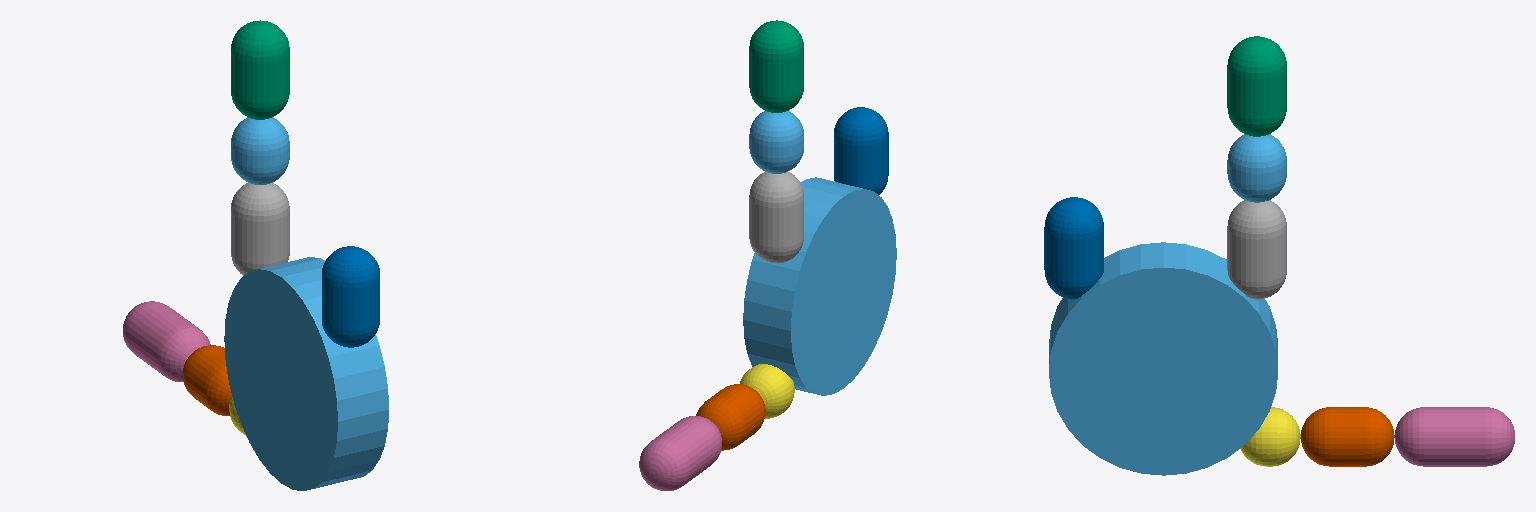
The robot description file, URDF, robot "DexterousHand":
<?xml version="1.0"?>
<robot name="DexterousHand">


    <link name="world"/>
    <joint name="world_to_palm" type="fixed">
        <parent link="world"/>
        <child link="palm"/>
        <origin xyz="0 0 0" rpy="0 0 0"/>
    </joint>
    <link name="palm">
        <inertial>
            <origin xyz="0 0 0.057" rpy="0 0 0"/>
            <mass value="0.30212892864"/>
            <inertia ixx="0.00049080844457568" ixy="0.0" ixz="0.0" iyy="0.00026746366246427523" iyz="0.0" izz="0.00026746366246427523"/>
        </inertial>
        <visual>
            <origin xyz="0 0 0.057" rpy="1.5708 0 1.5708"/>
            <geometry>
                <cylinder radius="0.057" length="0.0296"/>
            </geometry>
            <material name="default"/>
        </visual>
        <collision>
            <origin xyz="0 0 0.057" rpy="1.5708 0 1.5708"/>
            <geometry>
                <cylinder radius="0.057" length="0.0296"/>
            </geometry>
        </collision>
    </link>

    
    <joint name="thumb_joint1" type="revolute">
        <parent link="palm"/>
        <child link="thumb_base"/>
        <origin xyz="0.0029 0.0368 0.0157" rpy="-1.5708 -1.5708 0.0"/>
        <axis xyz="-1 0 0"/>
        <limit lower="-0.349" upper="2.094" effort="1.0" velocity="1.0"/>
    </joint>

    <link name="thumb_base"></link>

    <joint name="thumb_joint2" type="revolute">
        <parent link="thumb_base"/>
        <child link="thumb_proximal"/>
        <origin xyz="0.0 0.0 0.0" rpy="0.0 0.0 0.0"/>
        <axis xyz="0 0 1"/>
        <limit lower="-0.47" upper="2.443" effort="1.0" velocity="1.0"/>
    </joint>

    <link name="thumb_proximal">
        <inertial>
            <origin xyz="0 0 0.01565" rpy="0 0 0"/>
            <mass value="0.021538658803200002"/>
            <inertia ixx="2.9378910096388167e-06" ixy="0.0" ixz="0.0" 
            iyy="2.9378910096388167e-06" iyz="0.0" izz="2.358913912126464e-06"/>
        </inertial>
        <visual>
            <origin xyz="0 0 0.01565" rpy="0 0 0"/>
            <geometry>
                <cylinder radius="0.0148" length="0.0017000000000000001"/>
            </geometry>
            <material name="default"/>
        </visual>
        <visual>
            <origin xyz="0 0 0.0148" rpy="0 0 0"/>
            <geometry>
                <sphere radius="0.0148"/>
            </geometry>
            <material name="default"/>
        </visual>
        <visual>
            <origin xyz="0 0 0.0165" rpy="0 0 0"/>
            <geometry>
                <sphere radius="0.0148"/>
            </geometry>
            <material name="default"/>
        </visual>
        <collision>
            <origin xyz="0 0 0.01565" rpy="0 0 0"/>
            <geometry>
                <cylinder radius="0.0148" length="0.0017000000000000001"/>
            </geometry>
        </collision>
        <collision>
            <origin xyz="0 0 0.0148" rpy="0 0 0"/>
            <geometry>
                <sphere radius="0.0148"/>
            </geometry>
        </collision>
        <collision>
            <origin xyz="0 0 0.0165" rpy="0 0 0"/>
            <geometry>
                <sphere radius="0.0148"/>
            </geometry>
        </collision>
    </link>

    <joint name="thumb_joint3" type="revolute">
        <parent link="thumb_proximal"/>
        <child link="thumb_knuckle"/>
        <origin xyz="0.0 0.0 0.0313" rpy="0.0 0.0 0.0"/>
        <axis xyz="1 0 0"/>
        <limit lower="0.0" upper="0.0" effort="1.0" velocity="1.0"/>
    </joint>

    <link name="thumb_knuckle"></link>

    <joint name="thumb_joint4" type="revolute">
        <parent link="thumb_knuckle"/>
        <child link="thumb_middle"/>
        <origin xyz="0 0 0" rpy="0 0 0"/> 
        <axis xyz="0 1 0"/>
        <limit lower="-1.2" upper="1.9" effort="1.0" velocity="1.0"/>
    </joint>

    <link name="thumb_middle">
        <inertial>
            <origin xyz="0 0 0.0233" rpy="0 0 0"/>
            <mass value="0.032067140582400004"/>
            <inertia ixx="7.5589732685519385e-06" ixy="0.0" ixz="0.0" 
            iyy="7.5589732685519385e-06" iyz="0.0" izz="3.5119932365844485e-06"/>
        </inertial>
        <visual>
            <origin xyz="0 0 0.0233" rpy="0 0 0"/>
            <geometry>
                <cylinder radius="0.0148" length="0.017"/>
            </geometry>
            <material name="default"/>
        </visual>
        <visual>
            <origin xyz="0 0 0.0148" rpy="0 0 0"/>
            <geometry>
                <sphere radius="0.0148"/>
            </geometry>
            <material name="default"/>
        </visual>
        <visual>
            <origin xyz="0 0 0.0318" rpy="0 0 0"/>
            <geometry>
                <sphere radius="0.0148"/>
            </geometry>
            <material name="default"/>
        </visual>
        <collision>
            <origin xyz="0 0 0.0233" rpy="0 0 0"/>
            <geometry>
                <cylinder radius="0.0148" length="0.017"/>
            </geometry>
        </collision>
        <collision>
            <origin xyz="0 0 0.0148" rpy="0 0 0"/>
            <geometry>
                <sphere radius="0.0148"/>
            </geometry>
        </collision>
        <collision>
            <origin xyz="0 0 0.0318" rpy="0 0 0"/>
            <geometry>
                <sphere radius="0.0148"/>
            </geometry>
        </collision>
    </link>

    <joint name="thumb_joint5" type="revolute">
        <parent link="thumb_middle"/>
        <child link="thumb_distal"/>
        <origin xyz="0 0 0.0466" rpy="0 0 0"/> 
        <axis xyz="0 1 0"/>
        <limit lower="-1.34" upper="1.88" effort="1.0" velocity="1.0"/>
    </joint>

    <link name="thumb_distal">
        <inertial>
            <origin xyz="0 0 0.03" rpy="0 0 0"/>
            <mass value="0.04128816384"/>
            <inertia ixx="1.46473890038784e-05" ixy="0.0" ixz="0.0" 
            iyy="1.46473890038784e-05" iyz="0.0" izz="4.521879703756801e-06"/>
        </inertial>
        <visual>
            <origin xyz="0 0 0.03" rpy="0 0 0"/>
            <geometry>
                <cylinder radius="0.0148" length="0.030399999999999996"/>
            </geometry>
            <material name="default"/>
        </visual>
        <visual>
            <origin xyz="0 0 0.0148" rpy="0 0 0"/>
            <geometry>
                <sphere radius="0.0148"/>
            </geometry>
            <material name="default"/>
        </visual>
        <visual>
            <origin xyz="0 0 0.0452" rpy="0 0 0"/>
            <geometry>
                <sphere radius="0.0148"/>
            </geometry>
            <material name="default"/>
        </visual>
        <collision>
            <origin xyz="0 0 0.03" rpy="0 0 0"/>
            <geometry>
                <cylinder radius="0.0148" length="0.030399999999999996"/>
            </geometry>
        </collision>
        <collision>
            <origin xyz="0 0 0.0148" rpy="0 0 0"/>
            <geometry>
                <sphere radius="0.0148"/>
            </geometry>
        </collision>
        <collision>
            <origin xyz="0 0 0.0452" rpy="0 0 0"/>
            <geometry>
                <sphere radius="0.0148"/>
            </geometry>
        </collision>
    </link>

    
    <joint name="index_joint1" type="revolute">
        <parent link="palm"/>
        <child link="index_proximal"/>
        <origin xyz="0.0 0.0465 0.091" rpy="0.0 0.0 0.0"/>
        <axis xyz="0 1 0"/>
        <limit lower="-0.314" upper="2.23" effort="1.0" velocity="1.0"/>
    </joint>

    <link name="index_proximal">
        <inertial>
            <origin xyz="0 0 0.02655" rpy="0 0 0"/>
            <mass value="0.036540024998400006"/>
            <inertia ixx="1.058665009272394e-05" ixy="0.0" ixz="0.0" 
            iyy="1.058665009272394e-05" iyz="0.0" izz="4.001863537824769e-06"/>
        </inertial>
        <visual>
            <origin xyz="0 0 0.02655" rpy="0 0 0"/>
            <geometry>
                <cylinder radius="0.0148" length="0.0235"/>
            </geometry>
            <material name="default"/>
        </visual>
        <visual>
            <origin xyz="0 0 0.0148" rpy="0 0 0"/>
            <geometry>
                <sphere radius="0.0148"/>
            </geometry>
            <material name="default"/>
        </visual>
        <visual>
            <origin xyz="0 0 0.0383" rpy="0 0 0"/>
            <geometry>
                <sphere radius="0.0148"/>
            </geometry>
            <material name="default"/>
        </visual>
        <collision>
            <origin xyz="0 0 0.02655" rpy="0 0 0"/>
            <geometry>
                <cylinder radius="0.0148" length="0.0235"/>
            </geometry>
        </collision>
        <collision>
            <origin xyz="0 0 0.0148" rpy="0 0 0"/>
            <geometry>
                <sphere radius="0.0148"/>
            </geometry>
        </collision>
        <collision>
            <origin xyz="0 0 0.0383" rpy="0 0 0"/>
            <geometry>
                <sphere radius="0.0148"/>
            </geometry>
        </collision>
    </link>

    <joint name="index_joint2" type="revolute">
        <parent link="index_proximal"/>
        <child link="index_dummy"/>
        <origin xyz="0.0 0.0 0.038" rpy="0.0 0.0 0.0"/>
        <axis xyz="1 0 0"/>
        <limit lower="-1.047" upper="1.047" effort="1.0" velocity="1.0"/>
    </joint>

    <link name="index_dummy"></link>

    <joint name="index_joint3" type="revolute">
        <parent link="index_dummy"/>
        <child link="index_middle"/>
        <origin xyz="0 0 0.015100000000000002" rpy="0 0 0"/>
        <axis xyz="0 1 0"/>
        <limit lower="-0.506" upper="1.885" effort="1.0" velocity="1.0"/>
    </joint>

    <link name="index_middle">
        <inertial>
            <origin xyz="0 0 0.01805" rpy="0 0 0"/>
            <mass value="0.0248417119104"/>
            <inertia ixx="4.058162759109537e-06" ixy="0.0" ixz="0.0" 
            iyy="4.058162759109537e-06" iyz="0.0" izz="2.7206642884270085e-06"/>
        </inertial>
        <visual>
            <origin xyz="0 0 0.01805" rpy="0 0 0"/>
            <geometry>
                <cylinder radius="0.0148" length="0.006499999999999999"/>
            </geometry>
            <material name="default"/>
        </visual>
        <visual>
            <origin xyz="0 0 0.0148" rpy="0 0 0"/>
            <geometry>
                <sphere radius="0.0148"/>
            </geometry>
            <material name="default"/>
        </visual>
        <visual>
            <origin xyz="0 0 0.0213" rpy="0 0 0"/>
            <geometry>
                <sphere radius="0.0148"/>
            </geometry>
            <material name="default"/>
        </visual>
        <collision>
            <origin xyz="0 0 0.01805" rpy="0 0 0"/>
            <geometry>
                <cylinder radius="0.0148" length="0.006499999999999999"/>
            </geometry>
        </collision>
        <collision>
            <origin xyz="0 0 0.0148" rpy="0 0 0"/>
            <geometry>
                <sphere radius="0.0148"/>
            </geometry>
        </collision>
        <collision>
            <origin xyz="0 0 0.0213" rpy="0 0 0"/>
            <geometry>
                <sphere radius="0.0148"/>
            </geometry>
        </collision>
    </link>

    <joint name="index_joint4" type="revolute">
        <parent link="index_middle"/>
        <child link="index_distal"/>
        <origin xyz="0 0 0.0361" rpy="0 0 0"/> 
        <axis xyz="0 1 0"/>
        <limit lower="-0.366" upper="2.042" effort="1.0" velocity="1.0"/>
    </joint>

    <link name="index_distal">
        <inertial>
            <origin xyz="0 0 0.026" rpy="0 0 0"/>
            <mass value="0.035783075328"/>
            <inertia ixx="1.002260084553728e-05" ixy="0.0" ixz="0.0" 
            iyy="1.002260084553728e-05" iyz="0.0" izz="3.91896240992256e-06"/>
        </inertial>
        <visual>
            <origin xyz="0 0 0.026" rpy="0 0 0"/>
            <geometry>
                <cylinder radius="0.0148" length="0.022399999999999996"/>
            </geometry>
            <material name="default"/>
        </visual>
        <visual>
            <origin xyz="0 0 0.0148" rpy="0 0 0"/>
            <geometry>
                <sphere radius="0.0148"/>
            </geometry>
            <material name="default"/>
        </visual>
        <visual>
            <origin xyz="0 0 0.0372" rpy="0 0 0"/>
            <geometry>
                <sphere radius="0.0148"/>
            </geometry>
            <material name="default"/>
        </visual>
        <collision>
            <origin xyz="0 0 0.026" rpy="0 0 0"/>
            <geometry>
                <cylinder radius="0.0148" length="0.022399999999999996"/>
            </geometry>
        </collision>
        <collision>
            <origin xyz="0 0 0.0148" rpy="0 0 0"/>
            <geometry>
                <sphere radius="0.0148"/>
            </geometry>
        </collision>
        <collision>
            <origin xyz="0 0 0.0372" rpy="0 0 0"/>
            <geometry>
                <sphere radius="0.0148"/>
            </geometry>
        </collision>
    </link>

    
    <joint name="middle_joint1" type="revolute">
        <parent link="palm"/>
        <child link="middle_proximal"/>
        <origin xyz="0.0 0.0 0.0" rpy="0.0 0.0 0.0"/>
        <axis xyz="1 0 0"/>
        <limit lower="0.0" upper="0.0" effort="1.0" velocity="1.0"/>
    </joint>

    <link name="middle_proximal">
    </link>

    <joint name="middle_joint2" type="revolute">
        <parent link="middle_proximal"/>
        <child link="middle_dummy"/>
        <origin xyz="0.0 0.0 0.0" rpy="0.0 0.0 0.0"/>
        <axis xyz="0 1 0"/>
        <limit lower="0.0" upper="0.0" effort="1.0" velocity="1.0"/>
    </joint>

    <link name="middle_dummy"></link>

    <joint name="middle_joint3" type="revolute">
        <parent link="middle_dummy"/>
        <child link="middle_middle"/>
        <origin xyz="0 0 0" rpy="0 0 0"/>
        <axis xyz="0 1 0"/>
        <limit lower="0.0" upper="0.0" effort="1.0" velocity="1.0"/>
    </joint>

    <link name="middle_middle">
    </link>

    <joint name="middle_joint4" type="revolute">
        <parent link="middle_middle"/>
        <child link="middle_distal"/>
        <origin xyz="0 0 0" rpy="0 0 0"/> 
        <axis xyz="0 1 0"/>
        <limit lower="0.0" upper="0.0" effort="1.0" velocity="1.0"/>
    </joint>

    <link name="middle_distal">
    </link>

    
    <joint name="ring_joint1" type="revolute">
        <parent link="palm"/>
        <child link="ring_proximal"/>
        <origin xyz="0.0 0.0 0.0" rpy="0.0 0.0 0.0"/>
        <axis xyz="1 0 0"/>
        <limit lower="0.0" upper="0.0" effort="1.0" velocity="1.0"/>
    </joint>

    <link name="ring_proximal">
    </link>

    <joint name="ring_joint2" type="revolute">
        <parent link="ring_proximal"/>
        <child link="ring_dummy"/>
        <origin xyz="0.0 0.0 0.0" rpy="0.0 0.0 0.0"/>
        <axis xyz="0 1 0"/>
        <limit lower="0.0" upper="0.0" effort="1.0" velocity="1.0"/>
    </joint>

    <link name="ring_dummy"></link>

    <joint name="ring_joint3" type="revolute">
        <parent link="ring_dummy"/>
        <child link="ring_middle"/>
        <origin xyz="0 0 0" rpy="0 0 0"/>
        <axis xyz="0 1 0"/>
        <limit lower="0.0" upper="0.0" effort="1.0" velocity="1.0"/>
    </joint>

    <link name="ring_middle">
    </link>

    <joint name="ring_joint4" type="revolute">
        <parent link="ring_middle"/>
        <child link="ring_distal"/>
        <origin xyz="0 0 0" rpy="0 0 0"/> 
        <axis xyz="0 1 0"/>
        <limit lower="0.0" upper="0.0" effort="1.0" velocity="1.0"/>
    </joint>

    <link name="ring_distal">
    </link>

    
    <joint name="little_joint0" type="revolute">
        <parent link="palm"/>
        <child link="little_base"/>
        <origin xyz="0.0 0.0 0.0" rpy="0.0 0.0 0.0"/>
        <axis xyz="0 1 0"/>
        <limit lower="0.0" upper="0.0" effort="1.0" velocity="1.0"/>
    </joint>

    <link name="little_base"></link>

    <joint name="little_joint1" type="revolute">
        <parent link="little_base"/>
        <child link="little_proximal"/>
        <origin xyz="0.0 -0.0443 0.091" rpy="-0.0 -0.0 -0.0"/>
        <axis xyz="0 1 0"/>
        <limit lower="-0.314" upper="2.23" effort="1.0" velocity="1.0"/>
    </joint>

    <link name="little_proximal">
        <inertial>
            <origin xyz="0 0 0.02655" rpy="0 0 0"/>
            <mass value="0.036540024998400006"/>
            <inertia ixx="1.058665009272394e-05" ixy="0.0" ixz="0.0" 
            iyy="1.058665009272394e-05" iyz="0.0" izz="4.001863537824769e-06"/>
        </inertial>
        <visual>
            <origin xyz="0 0 0.02655" rpy="0 0 0"/>
            <geometry>
                <cylinder radius="0.0148" length="0.0235"/>
            </geometry>
            <material name="default"/>
        </visual>
        <visual>
            <origin xyz="0 0 0.0148" rpy="0 0 0"/>
            <geometry>
                <sphere radius="0.0148"/>
            </geometry>
            <material name="default"/>
        </visual>
        <visual>
            <origin xyz="0 0 0.0383" rpy="0 0 0"/>
            <geometry>
                <sphere radius="0.0148"/>
            </geometry>
            <material name="default"/>
        </visual>
        <collision>
            <origin xyz="0 0 0.02655" rpy="0 0 0"/>
            <geometry>
                <cylinder radius="0.0148" length="0.0235"/>
            </geometry>
        </collision>
        <collision>
            <origin xyz="0 0 0.0148" rpy="0 0 0"/>
            <geometry>
                <sphere radius="0.0148"/>
            </geometry>
        </collision>
        <collision>
            <origin xyz="0 0 0.0383" rpy="0 0 0"/>
            <geometry>
                <sphere radius="0.0148"/>
            </geometry>
        </collision>
    </link>

    <joint name="little_joint2" type="revolute">
        <parent link="little_proximal"/>
        <child link="little_dummy"/>
        <origin xyz="0.0 0.0 0.038" rpy="0.0 0.0 0.0"/>
        <axis xyz="0 1 0"/>
        <limit lower="0.0" upper="0.0" effort="1.0" velocity="1.0"/>
    </joint>

    <link name="little_dummy"></link>

    <joint name="little_joint3" type="revolute">
        <parent link="little_dummy"/>
        <child link="little_middle"/>
        <origin xyz="0 0 0.015100000000000002" rpy="0 0 0"/>
        <axis xyz="0 1 0"/>
        <limit lower="0.0" upper="0.0" effort="1.0" velocity="1.0"/>
    </joint>

    <link name="little_middle">
    </link>

    <joint name="little_joint4" type="revolute">
        <parent link="little_middle"/>
        <child link="little_distal"/>
        <origin xyz="0 0 0" rpy="0 0 0"/>
        <axis xyz="0 1 0"/>
        <limit lower="0.0" upper="0.0" effort="1.0" velocity="1.0"/>
    </joint>

    <link name="little_distal">
    </link>

</robot>

--- Render facts (derived) ---
Views: 3 orthographic renders of the robot side by side, from view 1: azimuth 30°, elevation 25°; view 2: azimuth 150°, elevation 25°; view 3: azimuth 270°, elevation 25°.
Robot: DexterousHand — 24 links, 23 joints (22 revolute, 1 fixed); root link world; default pose: all joints at 0.
Links seen in each view (by area): view 1: palm, little_proximal, index_distal, index_proximal, thumb_distal, index_middle, thumb_middle; view 2: palm, index_proximal, index_distal, thumb_distal, little_proximal, index_middle, thumb_middle, thumb_proximal; view 3: palm, thumb_distal, index_distal, little_proximal, index_proximal, thumb_middle, index_middle, thumb_proximal.
Link boxes in pixels (x1,y1,x2,y2): palm: (224, 257, 388, 490); little_proximal: (322, 246, 379, 347); index_distal: (231, 20, 289, 119); index_proximal: (231, 183, 289, 275); thumb_distal: (123, 301, 210, 381); index_middle: (231, 117, 289, 184); thumb_middle: (183, 345, 231, 415); palm: (743, 177, 896, 395); index_proximal: (749, 172, 803, 263); index_distal: (749, 20, 803, 112); thumb_distal: (639, 416, 721, 490); little_proximal: (834, 107, 888, 194); index_middle: (749, 111, 803, 173); thumb_middle: (696, 384, 765, 450); thumb_proximal: (740, 364, 794, 418); palm: (1049, 242, 1277, 475); thumb_distal: (1395, 407, 1514, 466); index_distal: (1227, 36, 1286, 136); little_proximal: (1044, 197, 1103, 299); index_proximal: (1227, 200, 1286, 299); thumb_middle: (1301, 407, 1394, 466); index_middle: (1227, 134, 1286, 202); thumb_proximal: (1240, 407, 1300, 466).
Bounding box of the posed robot: 0.0325 × 0.2338 × 0.2322 m (x, y, z).
Geometry: primitives only (box / cylinder / sphere), no mesh files.
